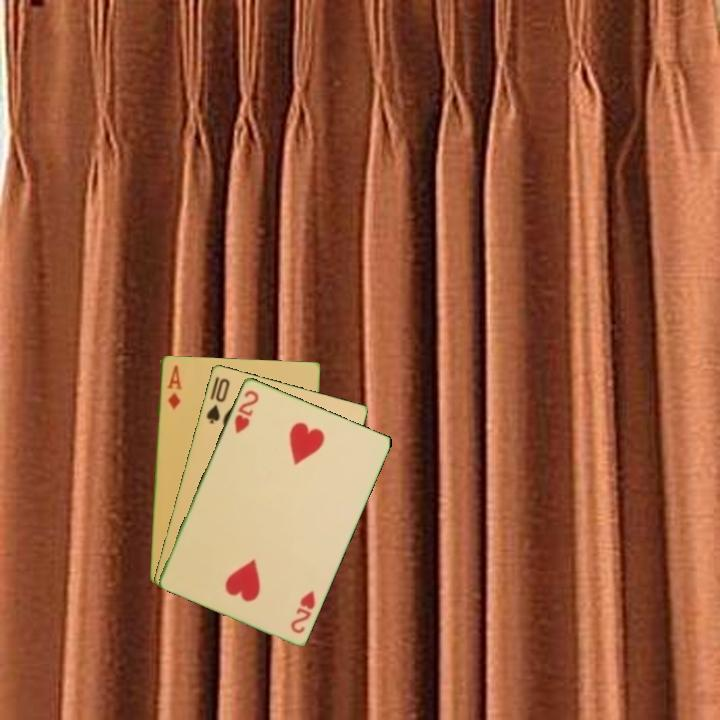10s: (203, 374, 232, 426)
2h: (231, 386, 262, 436), (287, 587, 318, 636)
Ad: (163, 361, 184, 412)
